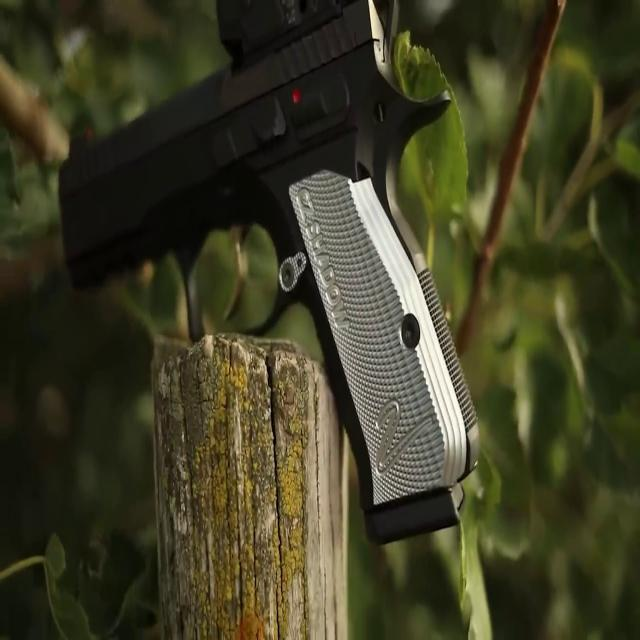Handgun: (54, 2, 484, 556)
